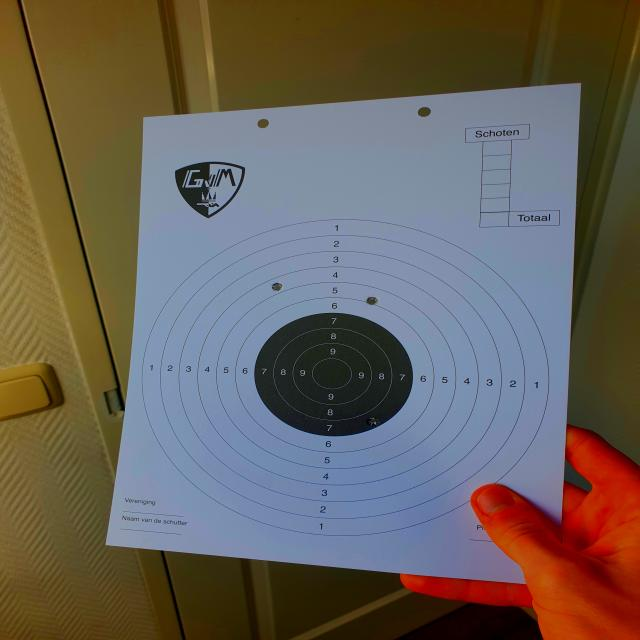4: (270, 282, 284, 292)
6: (364, 295, 378, 306)
7: (366, 416, 380, 427)
Target: (138, 216, 552, 538)
black_contour: (254, 312, 413, 437)
